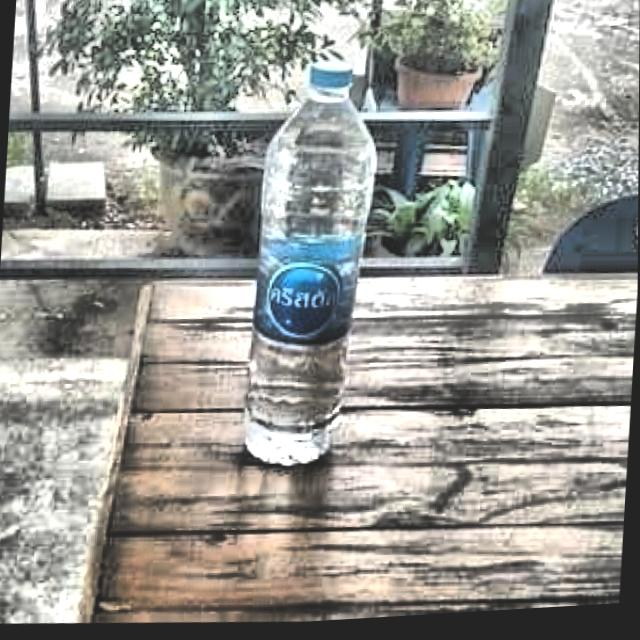Bottles: (231, 52, 395, 493)
